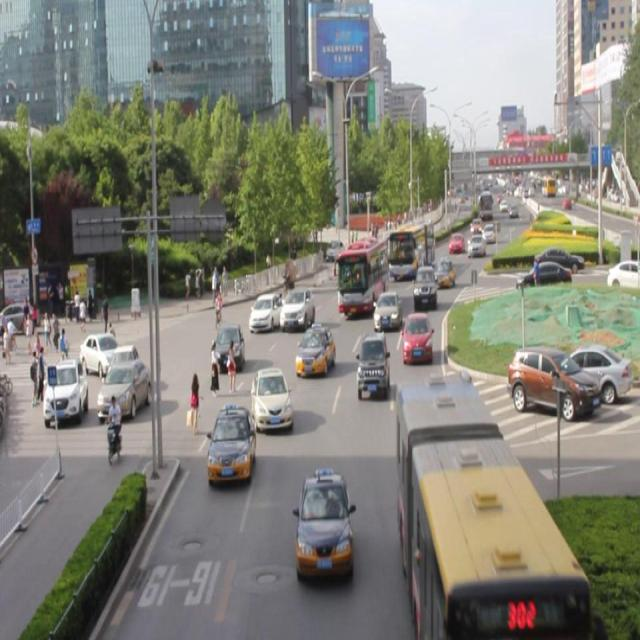car: (297, 472, 350, 572), (209, 405, 254, 483), (418, 379, 457, 456), (251, 368, 292, 427), (295, 324, 335, 376), (356, 333, 388, 394), (278, 280, 313, 327), (214, 320, 243, 370), (402, 314, 432, 362), (248, 288, 281, 326), (413, 264, 436, 308), (374, 291, 399, 330), (434, 256, 455, 288)
van: (396, 386, 587, 640), (338, 236, 388, 310), (389, 219, 432, 278)
